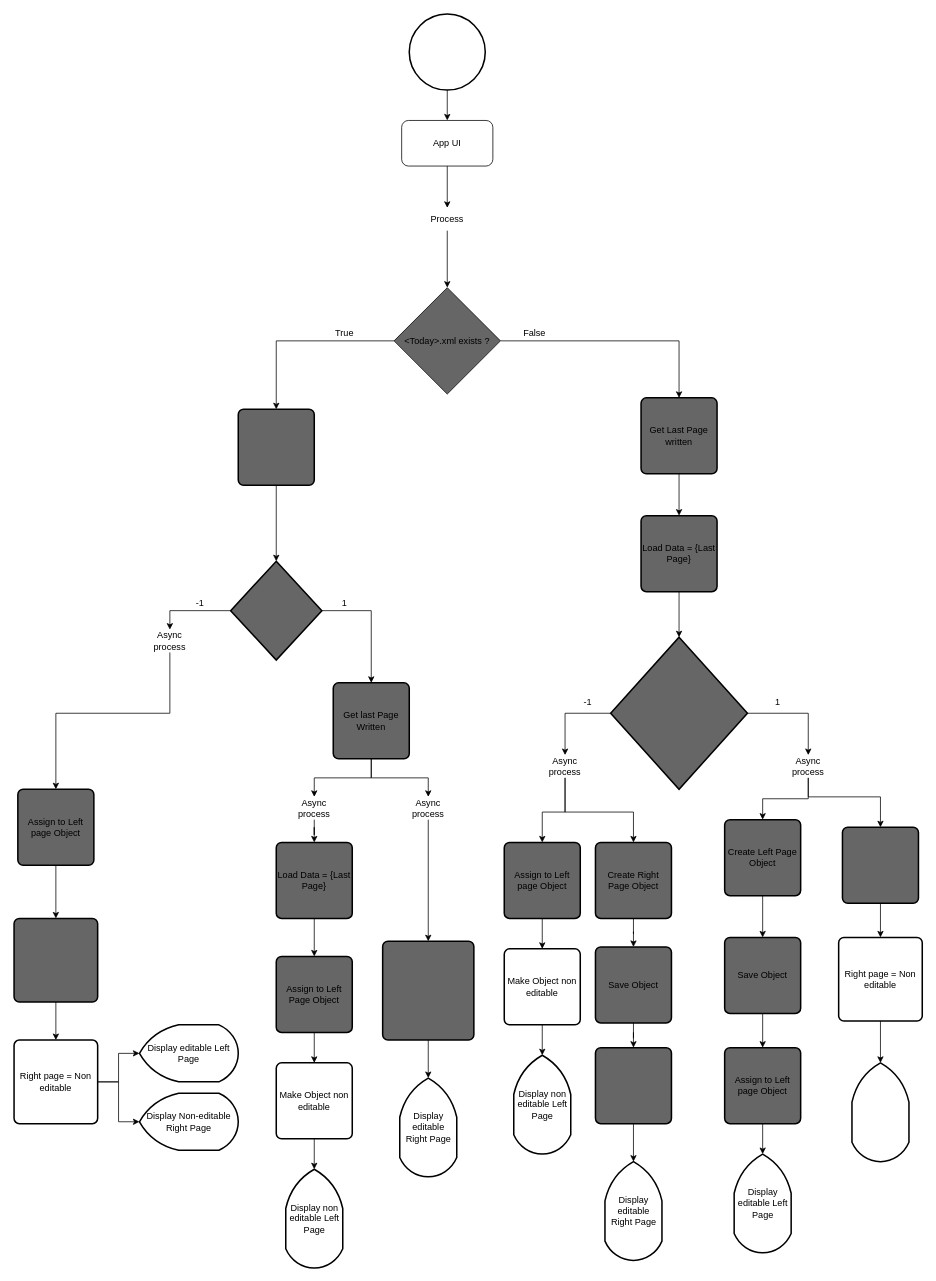
The diagram is 936 pixels wide and 1281 high, and some of its shapes have lost their labels. The box of each missing label's shape, as (x1, y1, x2, y2) in pixels:
Assign CurrentPage Data to Right Page Object: (382, 940, 474, 1040)
Assign Right Page Object = {null}: (841, 826, 919, 904)
Assign Right Page Object {null}: (13, 917, 98, 1002)
Assign to Right page Object: (594, 1047, 672, 1124)
Display non editable Right Page: (851, 1062, 909, 1162)
Load Data = {Current page}: (237, 408, 315, 486)
Start: (408, 13, 486, 90)
{Side} Value: (230, 560, 322, 660)
{{<LastPage.xml}.Side} Value: (610, 636, 748, 790)
